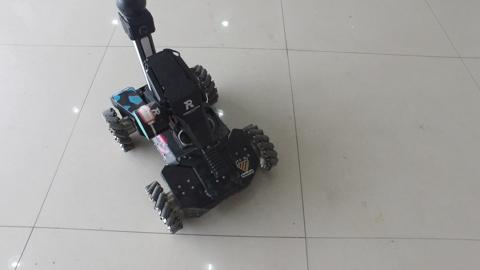chariot: (80, 16, 265, 228)
